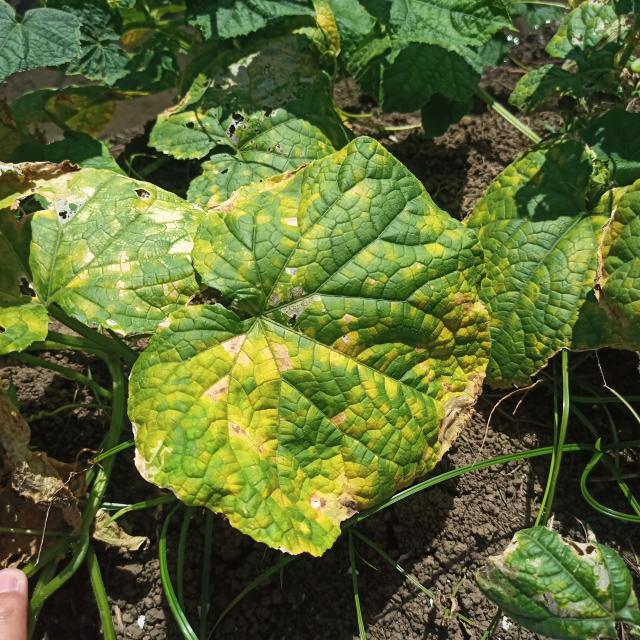disease_cucumber: (127, 139, 489, 551), (42, 167, 208, 324)
